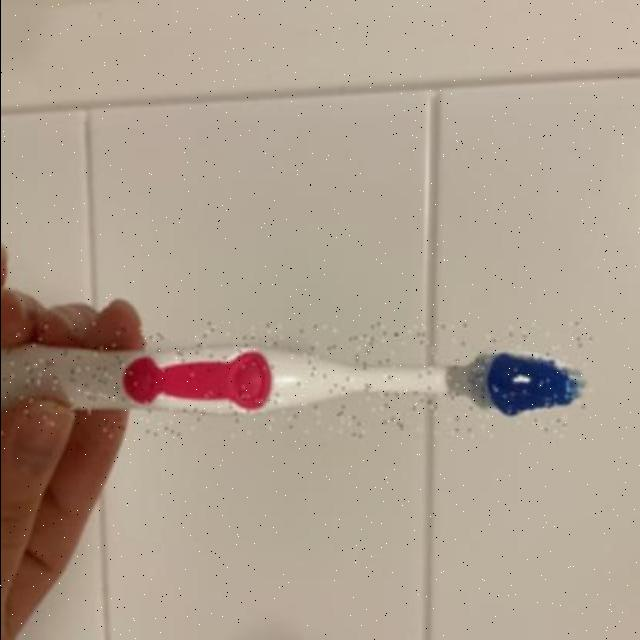toothbrush: (0, 322, 590, 436)
